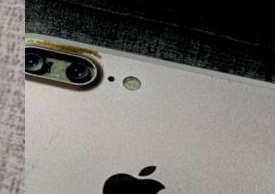physical_damage: (25, 39, 102, 92)
scratch: (25, 32, 106, 58), (25, 127, 60, 185)
